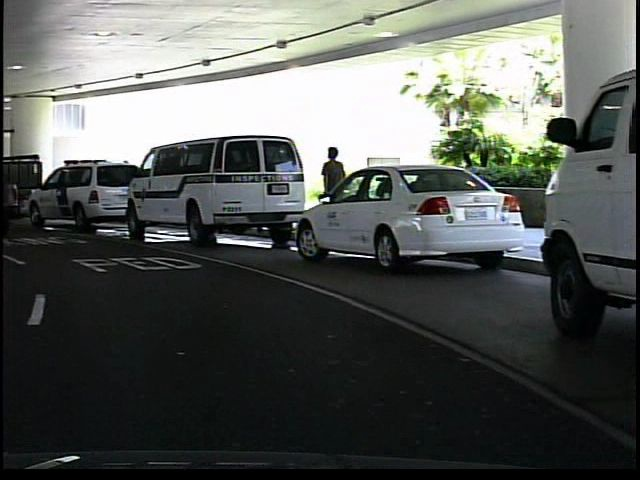person: (314, 143, 349, 234)
